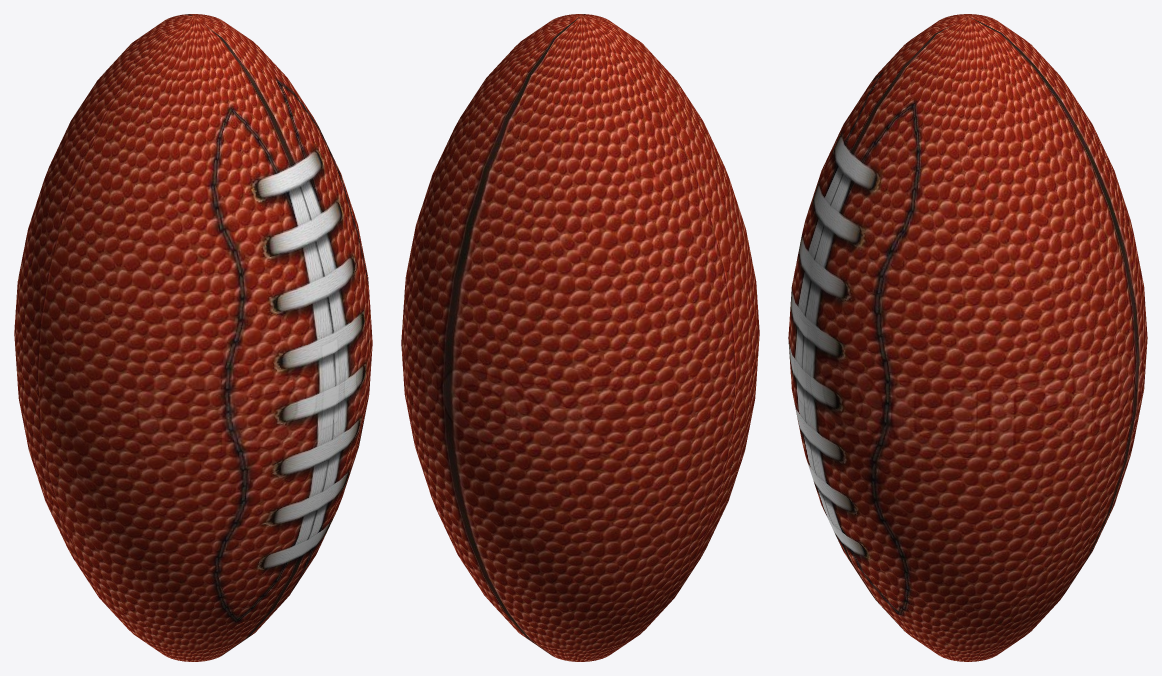
The model's file is football.fbx.
3 views of the same model, side by side, from view 1: azimuth 30°, elevation 25°; view 2: azimuth 150°, elevation 25°; view 3: azimuth 270°, elevation 25° (orthographic).
Parts seen in each view (by area): view 1: #football; view 2: #football; view 3: #football.
Boxes of the visible parts, bbox=[...] form: #football: bbox=[14, 14, 372, 661]; #football: bbox=[401, 14, 759, 661]; #football: bbox=[788, 14, 1147, 661].
Size of the model in its own units: 150 by 297 by 150.
1 material, 1 textured.
